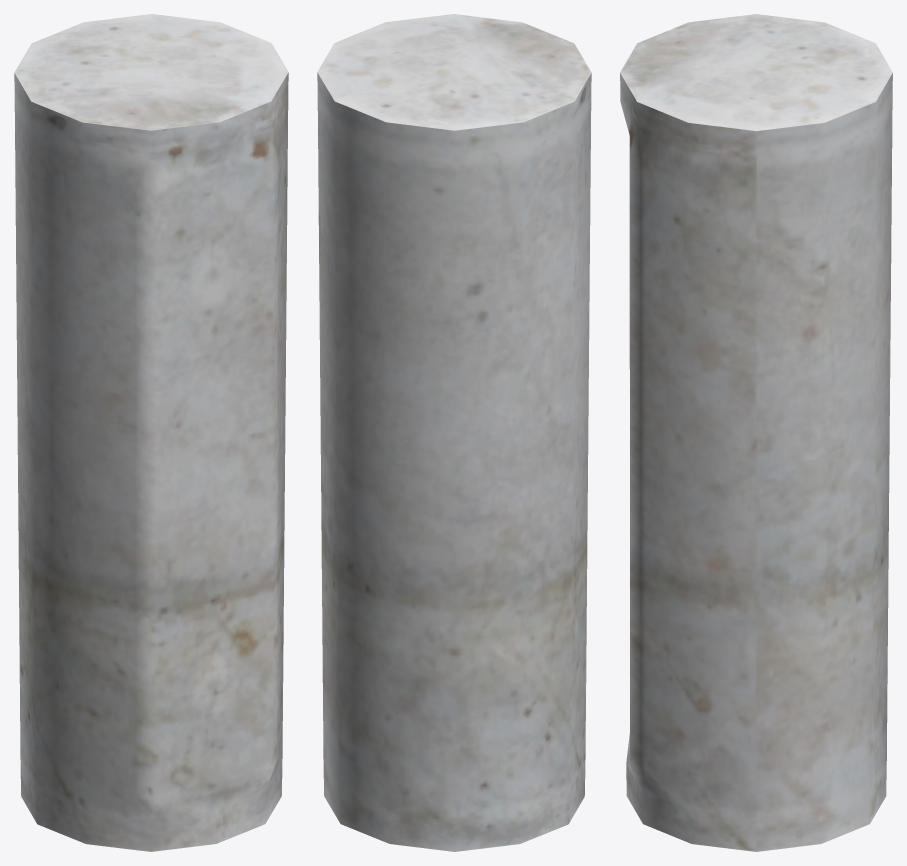
File: SM_Wires_Pipes_01k.glb
3 renders of one model, left to right at view 1: azimuth 30°, elevation 25°; view 2: azimuth 150°, elevation 25°; view 3: azimuth 270°, elevation 25°, orthographic.
Parts seen in each view (by area): view 1: SM_Wires_Pipes_01k; view 2: SM_Wires_Pipes_01k; view 3: SM_Wires_Pipes_01k.
Part boxes in pixels (x1,y1,x2,y2): SM_Wires_Pipes_01k: (14,14,288,851); SM_Wires_Pipes_01k: (317,14,591,851); SM_Wires_Pipes_01k: (620,14,892,851).
Size of the model in its own units: 0.0348 by 0.1017 by 0.0343.
Materials: 1 (1 with a texture image).
